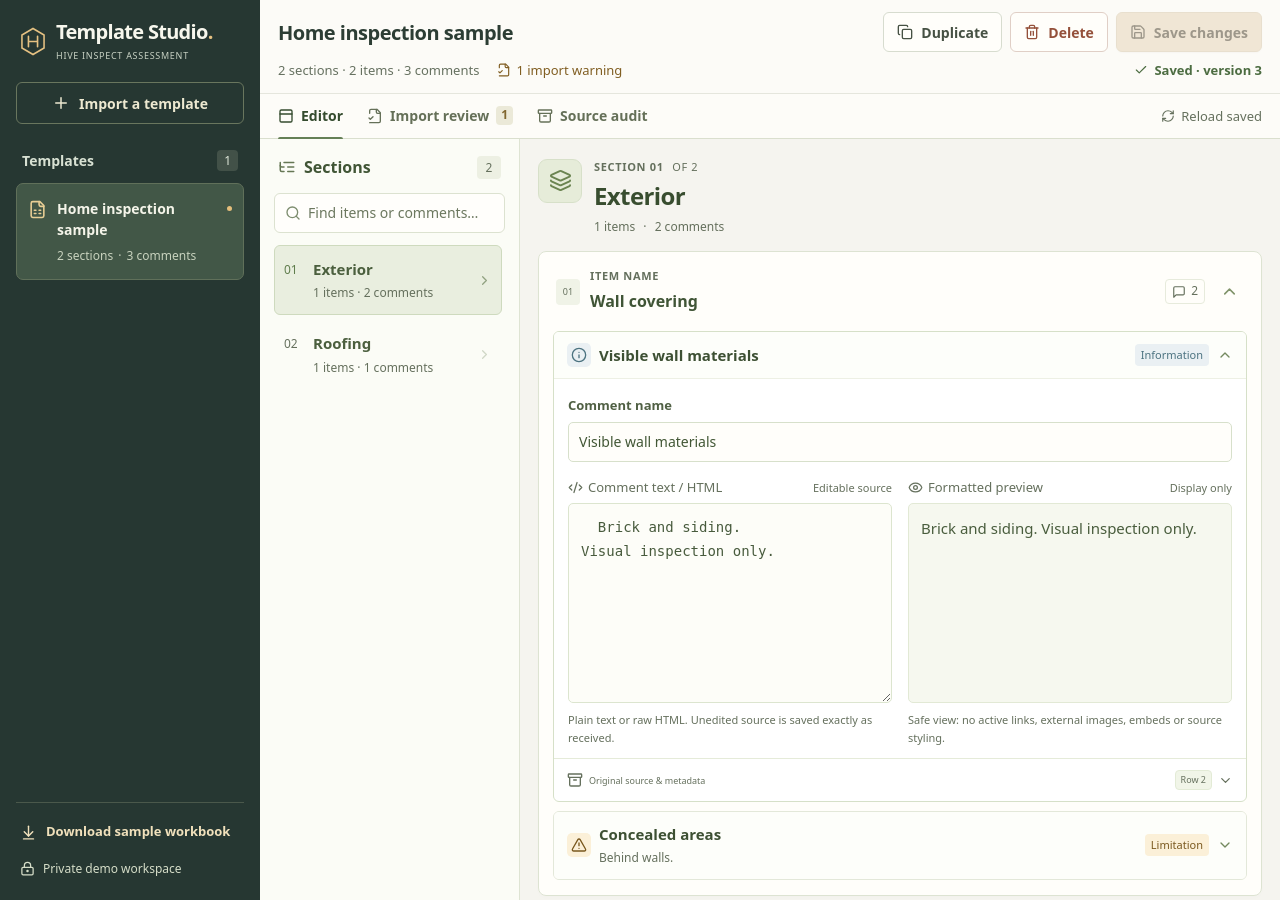
Test case: end-to-end client state with unit-test API mocks › keeps editing controls and import warnings without the oversized dashboard chrome
Check: the field named "Template name" holds "Home inspection sample", box [273,14,862,50]
Check: the button "Save changes" is shown, box [1116,12,1262,52]
Click the button "1 import warning". click: (560,70)
box: [497,60,622,81]
(page scrolled)
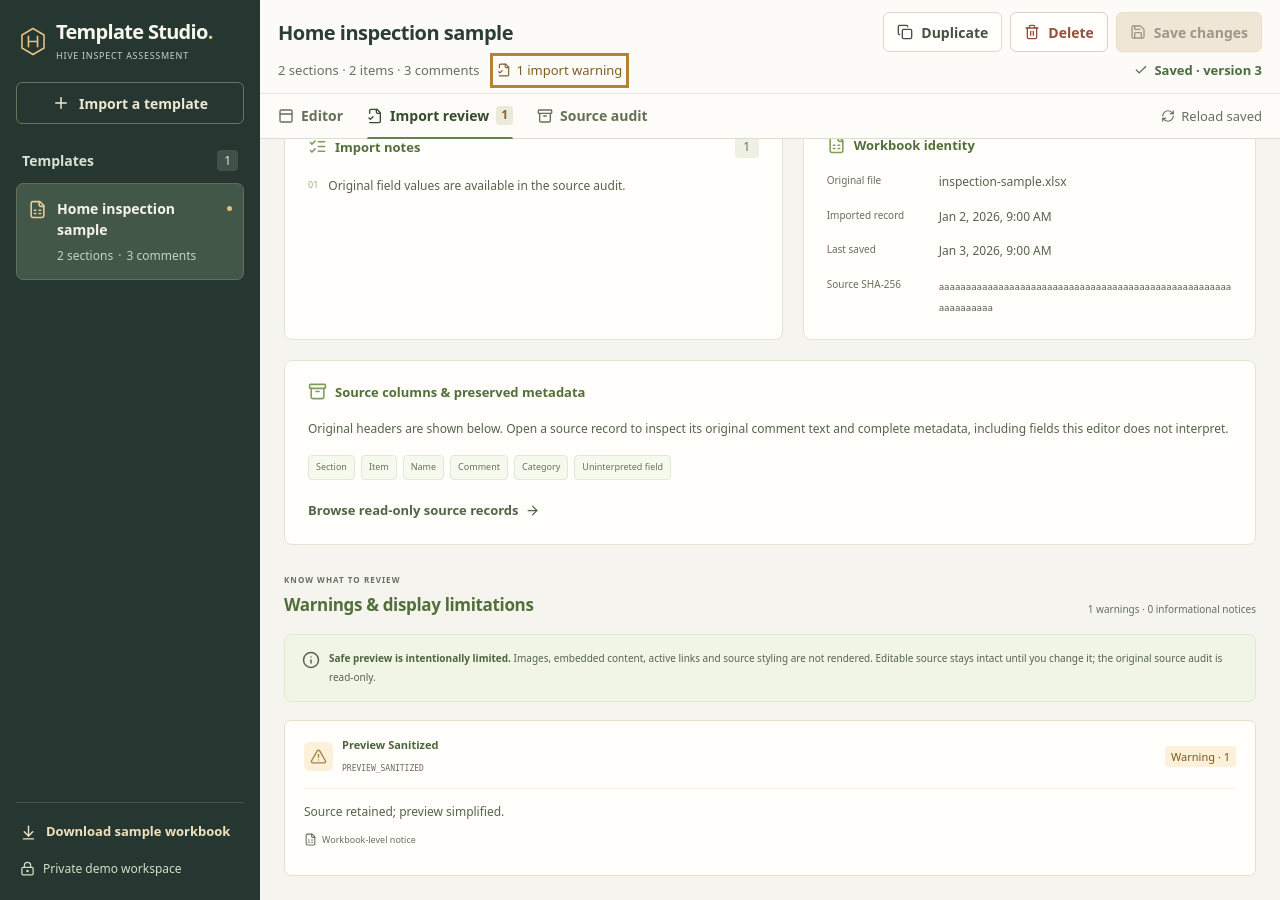
Check: the text "Source retained; preview simplified." is shown, box [304,803,504,820]
